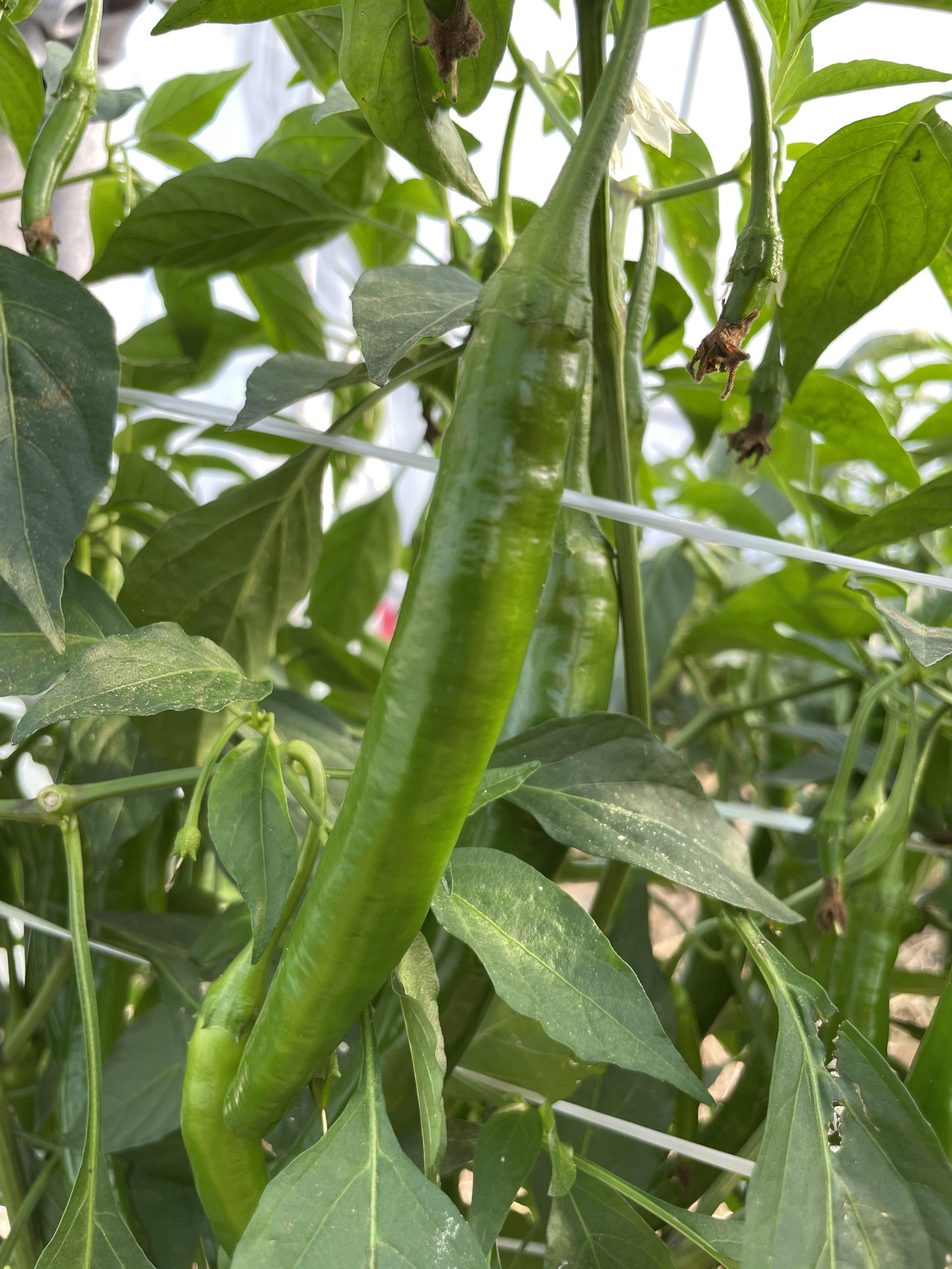Buah Cabai Sehat: (224, 199, 597, 1176)
